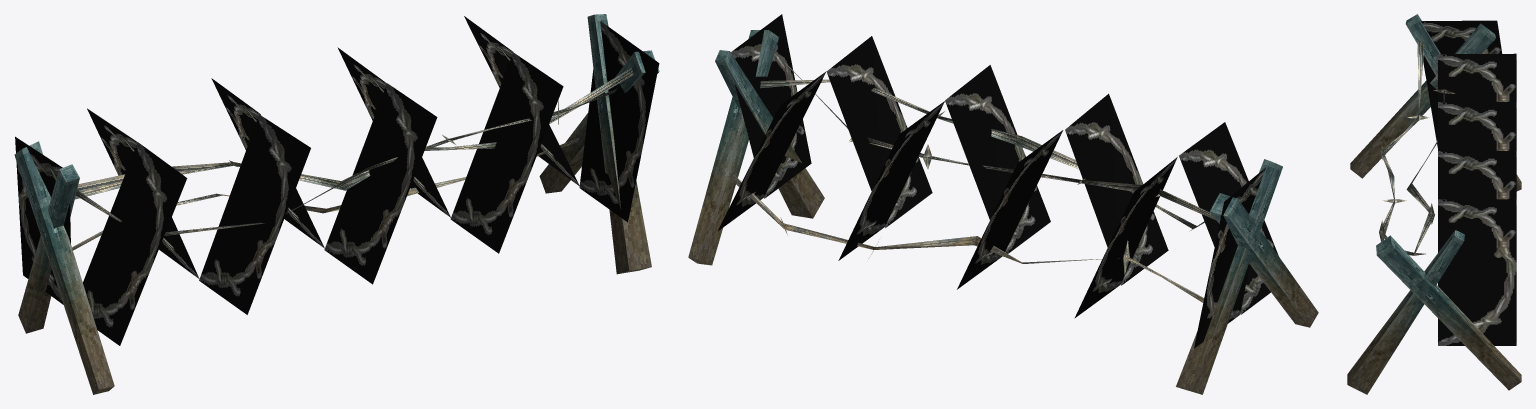
The model's file is C4SMBWIR1H.obj.
3 renders of one model, left to right at view 1: azimuth 30°, elevation 25°; view 2: azimuth 150°, elevation 25°; view 3: azimuth 270°, elevation 25°, orthographic. The views are drawn at different scales.
Parts seen in each view (by area): view 1: Node 0, Node 7, Node 6, Node 9, Node 4, Node 2, Node 5, Node 3, Node 1, Node 8; view 2: Node 0, Node 9, Node 4, Node 6, Node 2, Node 7, Node 8, Node 3, Node 5; view 3: Node 0, Node 2, Node 4, Node 9, Node 6, Node 7, Node 3, Node 5, Node 1.
Boxes of the visible parts, x1,y1,x2,y2 form: Node 0: (14,14,659,394); Node 7: (15,136,187,345); Node 6: (87,108,310,314); Node 9: (337,47,563,253); Node 4: (211,78,437,284); Node 2: (464,16,659,222); Node 5: (74,160,370,199); Node 3: (75,88,617,235); Node 1: (425,67,633,150); Node 8: (72,137,579,250); Node 0: (688,30,1318,394); Node 9: (826,36,944,260); Node 4: (945,65,1063,289); Node 6: (1065,93,1177,318); Node 2: (717,14,826,231); Node 7: (1179,122,1278,348); Node 8: (732,174,1204,302); Node 3: (760,79,1204,231); Node 5: (924,156,1216,220); Node 0: (1347,14,1521,394); Node 2: (1438,199,1516,345); Node 4: (1438,102,1516,150); Node 9: (1438,151,1516,199); Node 6: (1438,53,1516,101); Node 7: (1421,20,1502,147); Node 3: (1379,38,1429,241); Node 5: (1406,87,1455,214); Node 1: (1405,203,1434,255).
Size of the model in its own units: 6.63 by 2.34 by 2.18.
10 materials, 10 textured.
